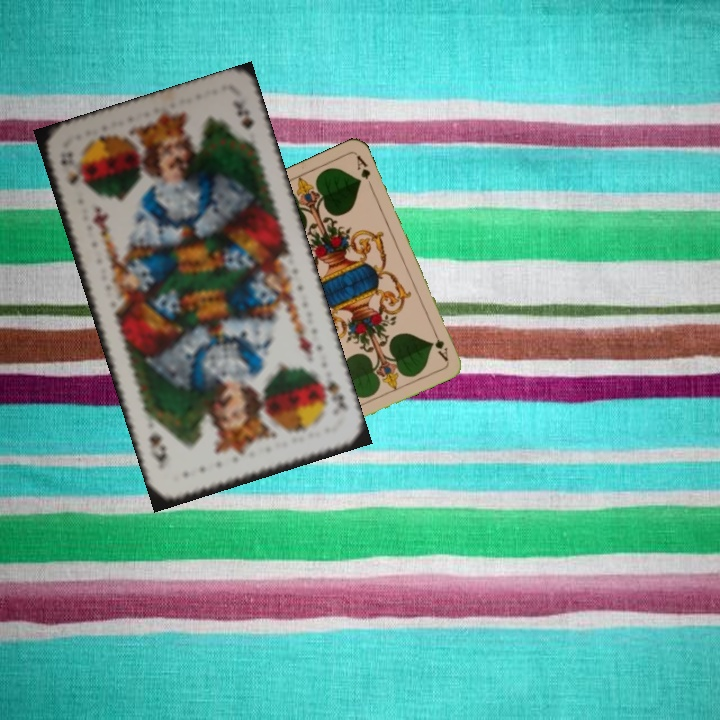GA: (429, 324, 451, 364)
SK: (313, 370, 351, 413), (55, 147, 82, 187)
